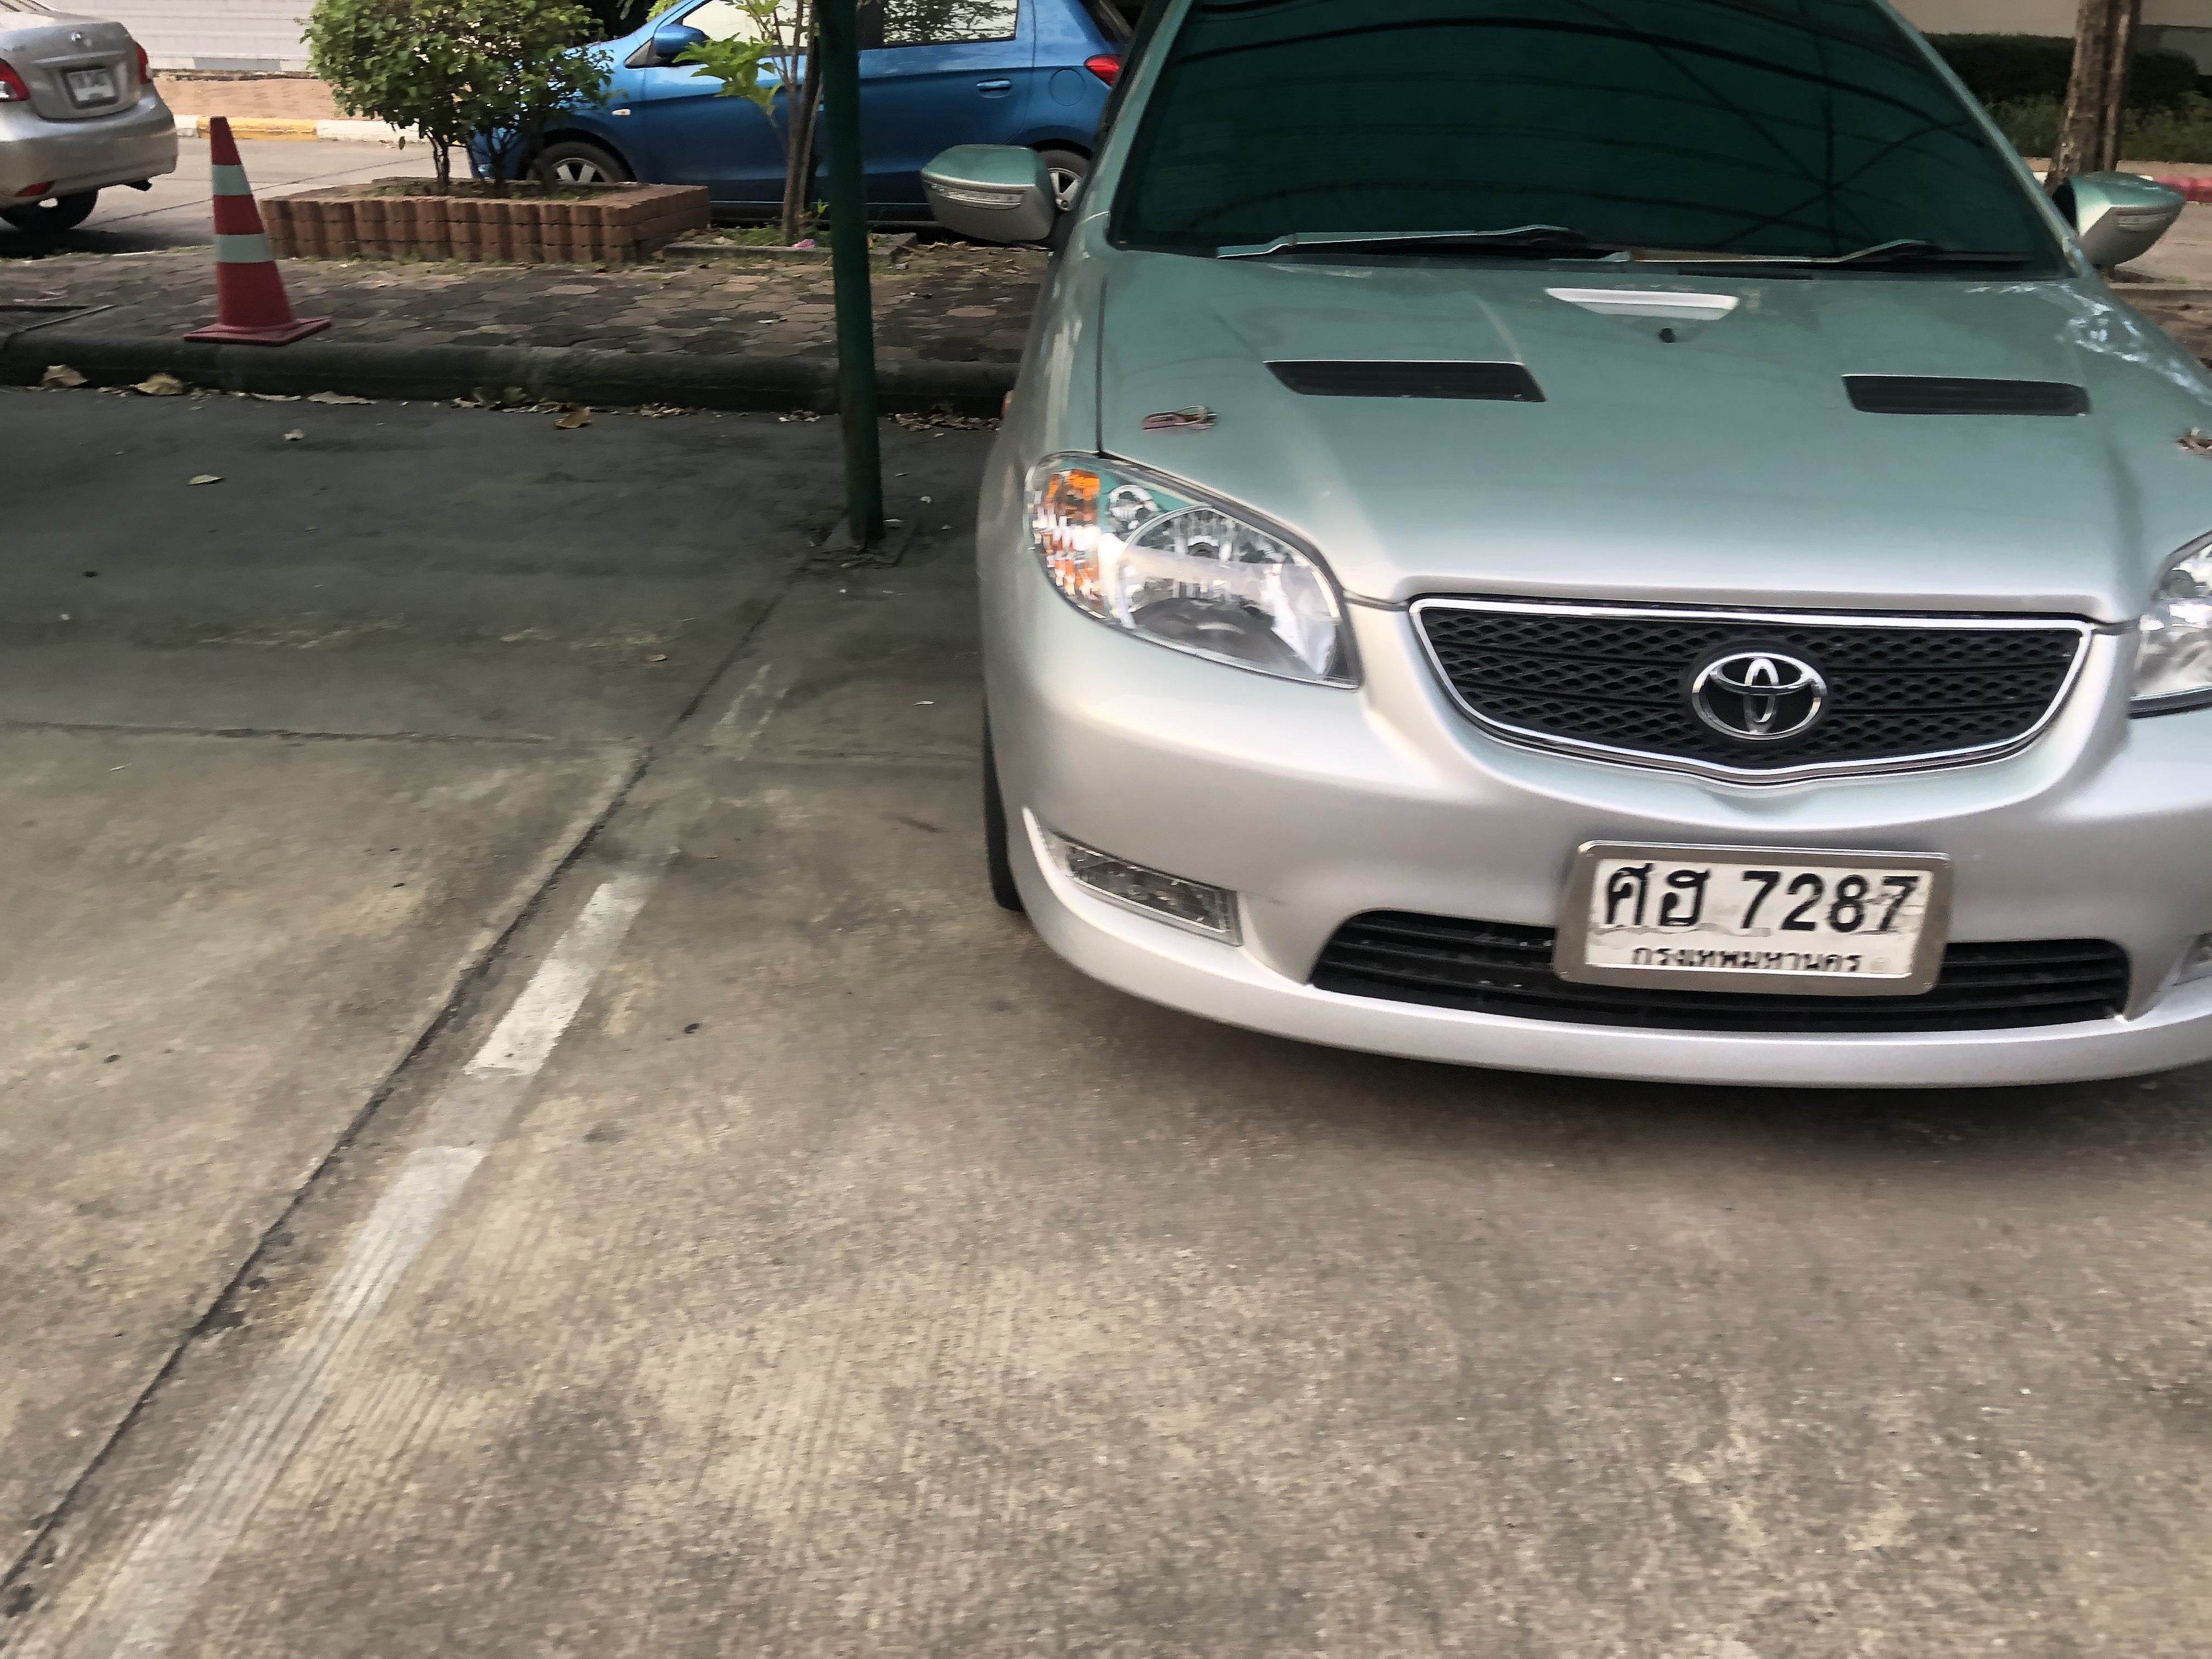in: (1587, 857, 1932, 979)
out: (1550, 835, 1956, 997)
